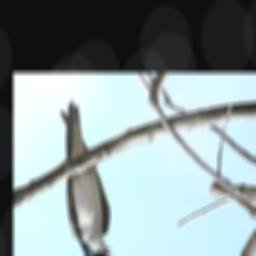Swallow: (61, 100, 113, 256)
